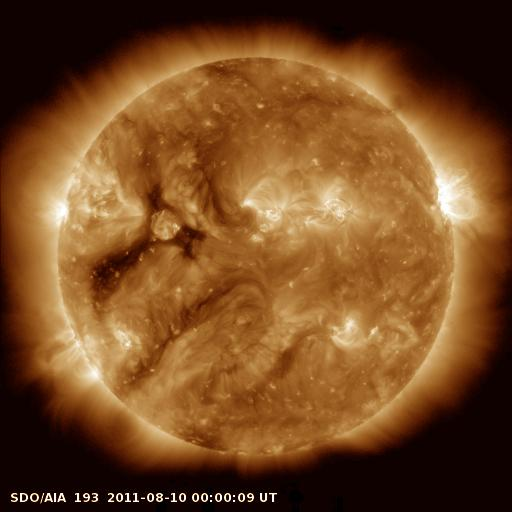coronal_hole: (91, 183, 165, 298)
